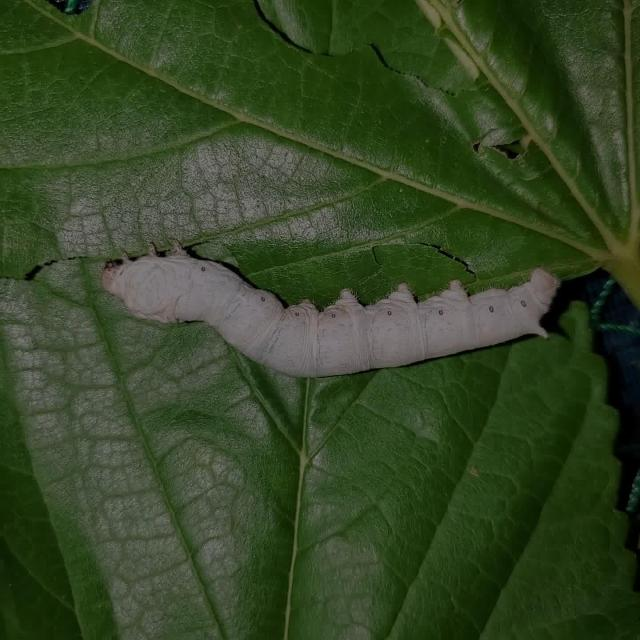Healthy: (89, 226, 571, 392)
